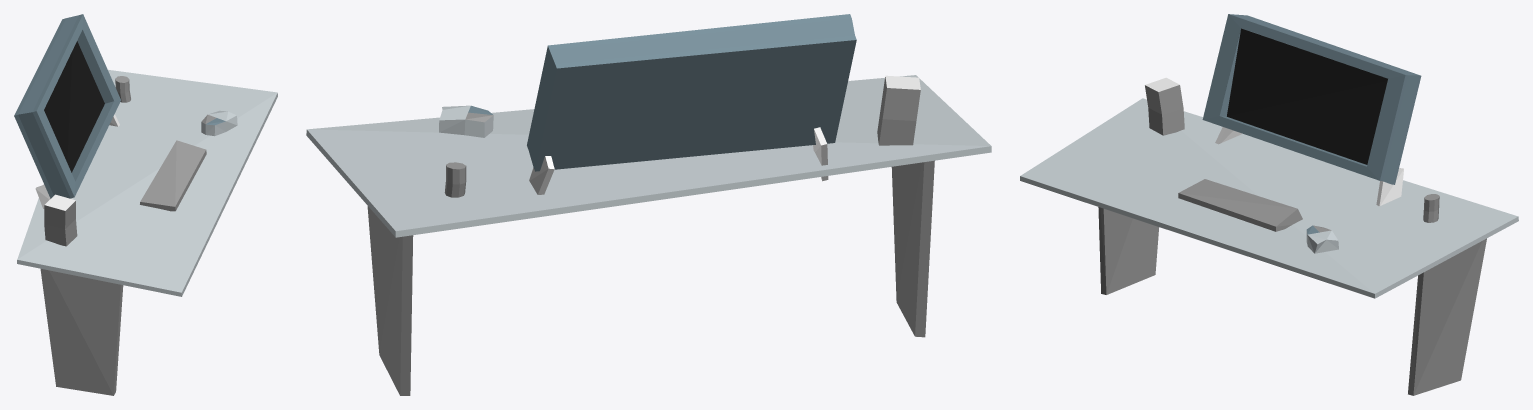
Rendered from Desk.fbx.
3 views of the same model, side by side, from view 1: azimuth 30°, elevation 25°; view 2: azimuth 150°, elevation 25°; view 3: azimuth 270°, elevation 25° (orthographic). The views are drawn at different scales.
Parts seen in each view (by area): view 1: mesh_618731324, mesh_577800275, mesh_932497085, mesh_1653679905, group_1169689496, mesh_1323246880, group_1424223956; view 2: mesh_577800275, mesh_618731324, mesh_932497085, mesh_445718196, group_1169689496, mesh_1323246880, group_1424223956, mesh_927227045; view 3: mesh_618731324, mesh_577800275, mesh_445718196, mesh_932497085, mesh_1653679905, group_1169689496, mesh_1323246880, mesh_927227045, group_1424223956.
Part boxes in pixels (<box>): mesh_618731324: <box>17,69,277,296</box>; mesh_577800275: <box>14,14,120,198</box>; mesh_932497085: <box>40,269,123,395</box>; mesh_1653679905: <box>140,140,206,211</box>; group_1169689496: <box>44,194,77,246</box>; mesh_1323246880: <box>201,110,237,136</box>; group_1424223956: <box>115,76,130,102</box>; mesh_577800275: <box>527,14,856,171</box>; mesh_618731324: <box>306,75,991,237</box>; mesh_932497085: <box>891,160,934,337</box>; mesh_445718196: <box>367,206,413,395</box>; group_1169689496: <box>877,75,920,145</box>; mesh_1323246880: <box>439,105,493,137</box>; group_1424223956: <box>444,162,466,197</box>; mesh_927227045: <box>529,156,554,194</box>; mesh_618731324: <box>1020,98,1518,298</box>; mesh_577800275: <box>1202,14,1421,184</box>; mesh_445718196: <box>1408,238,1486,395</box>; mesh_932497085: <box>1098,207,1159,294</box>; mesh_1653679905: <box>1178,179,1302,231</box>; group_1169689496: <box>1145,77,1184,135</box>; mesh_1323246880: <box>1306,225,1338,253</box>; mesh_927227045: <box>1376,168,1403,206</box>; group_1424223956: <box>1423,194,1439,222</box>.
Size of the model in its own units: 89.3 by 58.88 by 96.16.
